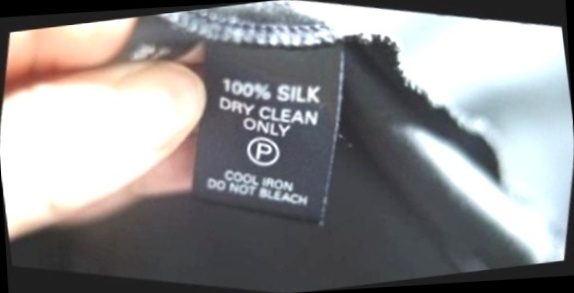dry_clean_any_solvent_except_trichloroethylene: (239, 126, 290, 176)
